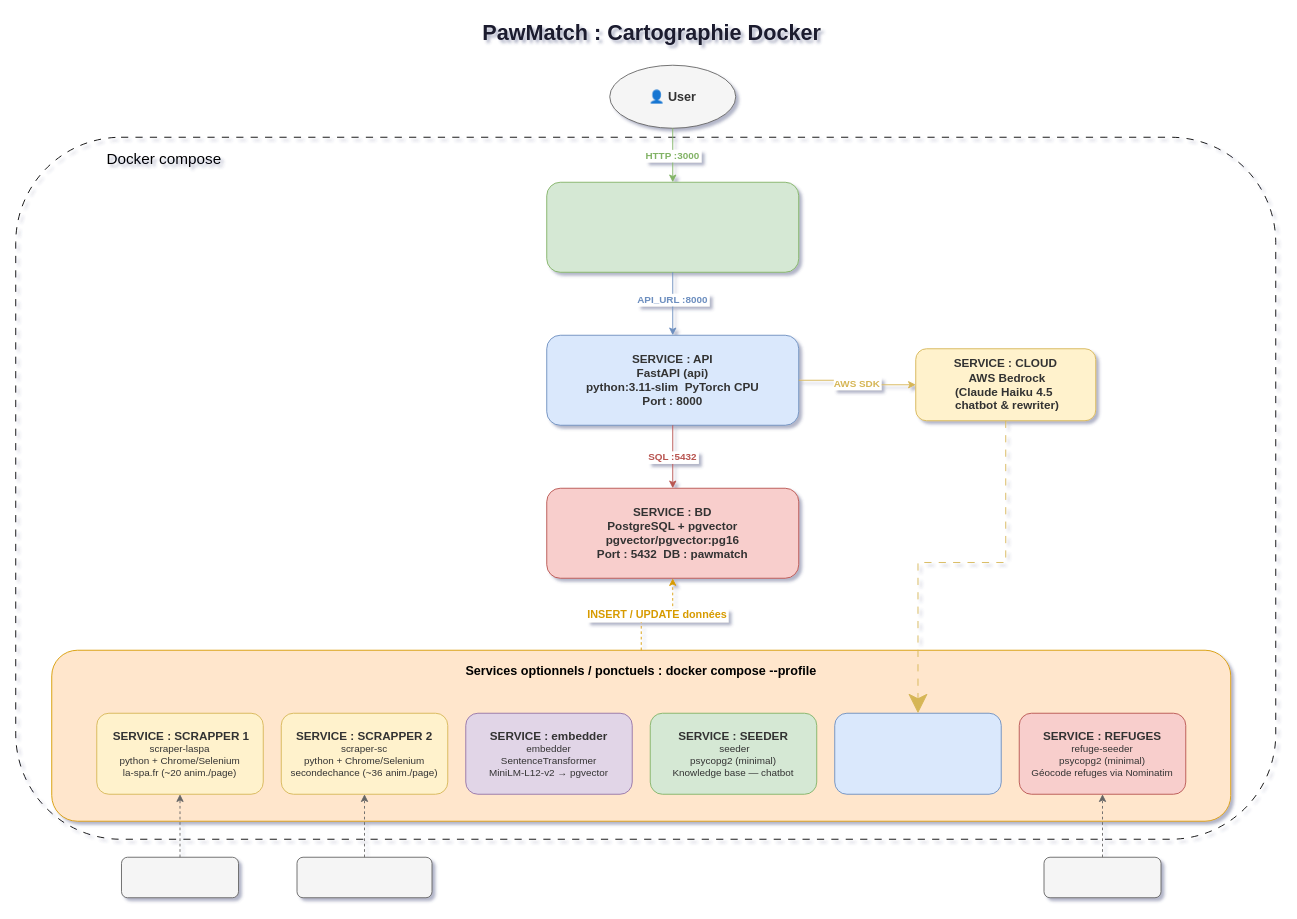
This 1297x919 diagram has some shape labels left out. The centre of each missing label's shape, as x and y in pixels:
"la-spa.fr" belongs at pixel 179 877.
"Nominatim API" belongs at pixel 1102 877.
"secondechance.org" belongs at pixel 364 877.
"SERVICE : FRONT Next.js node:20-alpine : multi-stage Port : 3000" belongs at pixel 672 226.
"SERVICE : REWRITER rewriter AWS Bedrock SDK Réécrit descriptions animaux" belongs at pixel 917 753.
